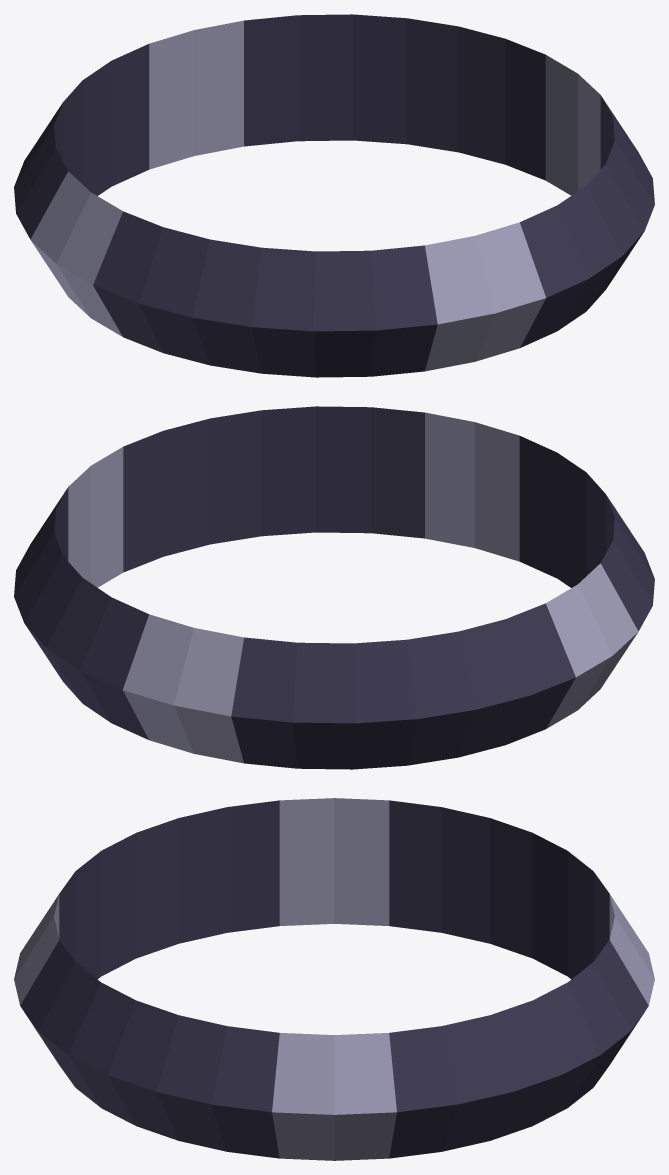
File: ShipyardTorus.fbx
3 views of the same model, one above another, from view 1: azimuth 30°, elevation 25°; view 2: azimuth 150°, elevation 25°; view 3: azimuth 270°, elevation 25° (orthographic).
Visible parts, largest first — view 1: ShipyardTorus; view 2: ShipyardTorus; view 3: ShipyardTorus.
Boxes of the visible parts, x1,y1,x2,y2 form: ShipyardTorus: (14,14,654,377); ShipyardTorus: (14,406,654,769); ShipyardTorus: (14,798,654,1160).
Size of the model in its own units: 800 by 173 by 800.
